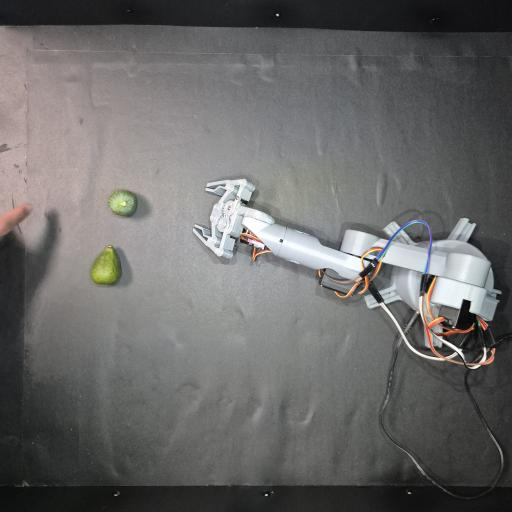higo: (91, 246, 121, 284), (108, 190, 137, 216)
